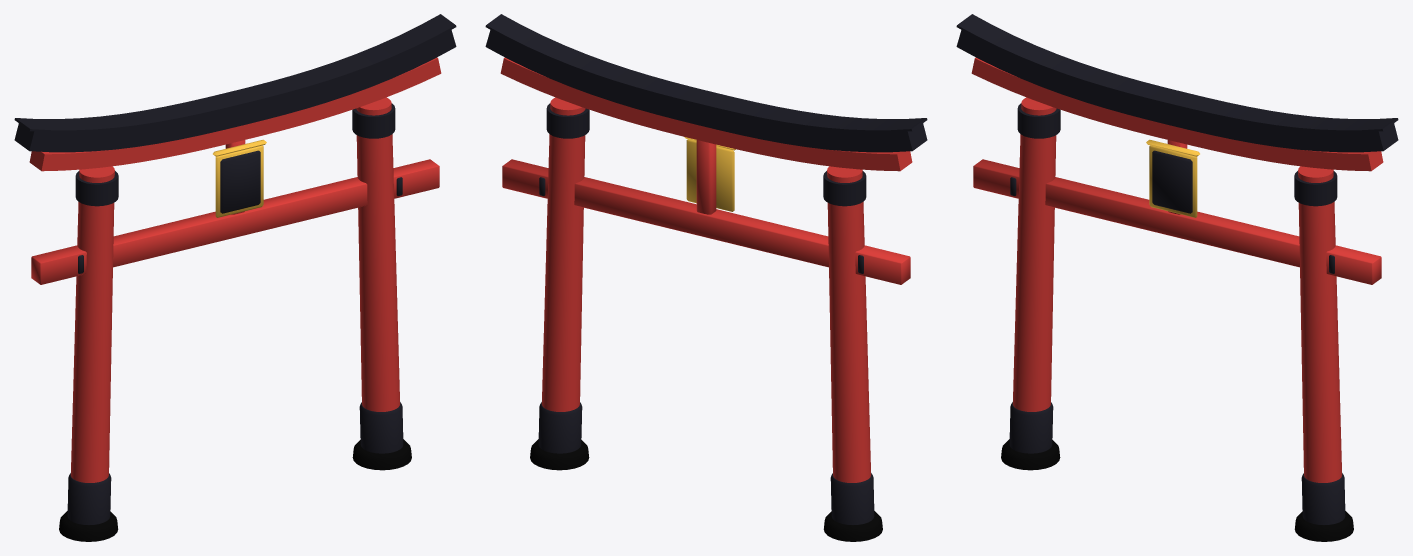
File: ToriiSmall.fbx
3 renders of one model, left to right at view 1: azimuth 30°, elevation 25°; view 2: azimuth 150°, elevation 25°; view 3: azimuth 330°, elevation 25°, orthographic.
Parts seen in each view (by area): view 1: ToriiSmall; view 2: ToriiSmall; view 3: ToriiSmall.
Boxes of the visible parts, x1,y1,x2,y2 form: ToriiSmall: [14, 14, 456, 541]; ToriiSmall: [485, 14, 927, 541]; ToriiSmall: [956, 14, 1398, 541].
Bounding box in the file's own units: 4.13 × 3.9 × 0.496.
Materials: 1 (1 with a texture image).
